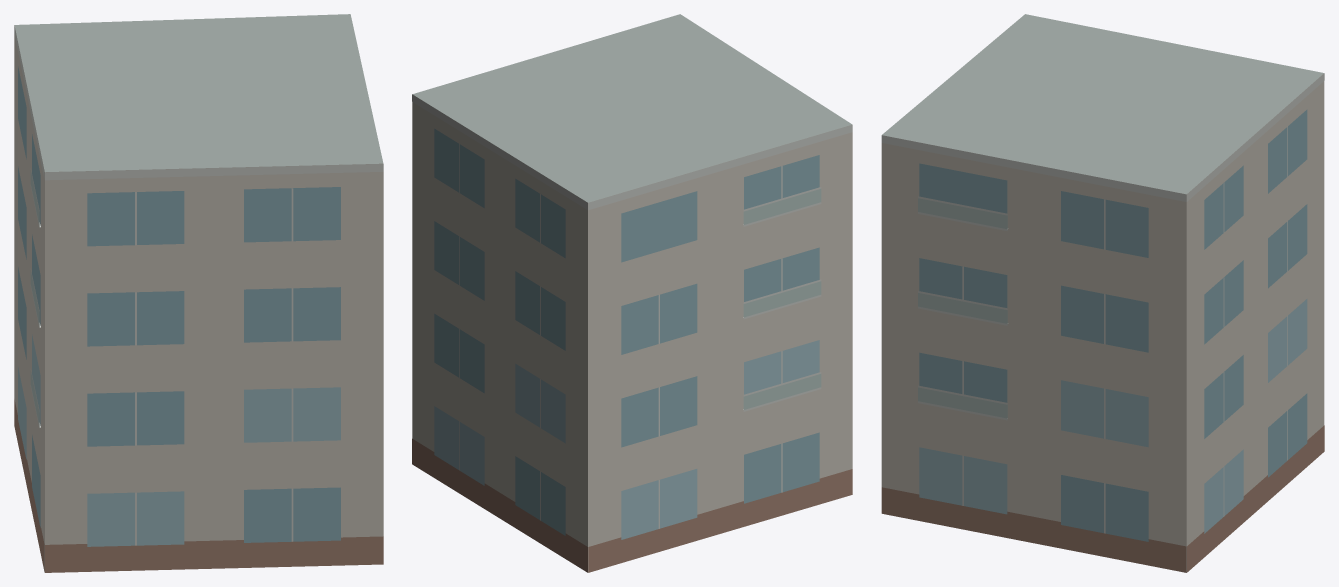
The model's file is survey-upis-32530460.glb.
3 views of the same model, side by side, from view 1: azimuth 30°, elevation 25°; view 2: azimuth 150°, elevation 25°; view 3: azimuth 270°, elevation 25° (orthographic). The views are drawn at different scales.
Visible parts, largest first — view 1: survey-upis-32530460.tmp; view 2: survey-upis-32530460.tmp; view 3: survey-upis-32530460.tmp.
Part boxes in pixels (bbox=[...]): survey-upis-32530460.tmp: bbox=[14, 14, 383, 572]; survey-upis-32530460.tmp: bbox=[412, 14, 852, 572]; survey-upis-32530460.tmp: bbox=[881, 14, 1324, 572].
Size of the model in its own units: 12.27 by 12 by 12.73.
